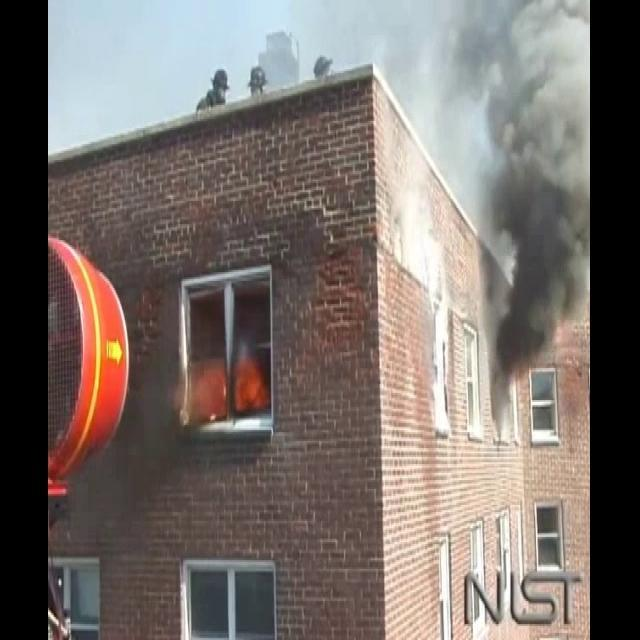Fire: (172, 350, 277, 440)
Smoke: (433, 0, 588, 428)
